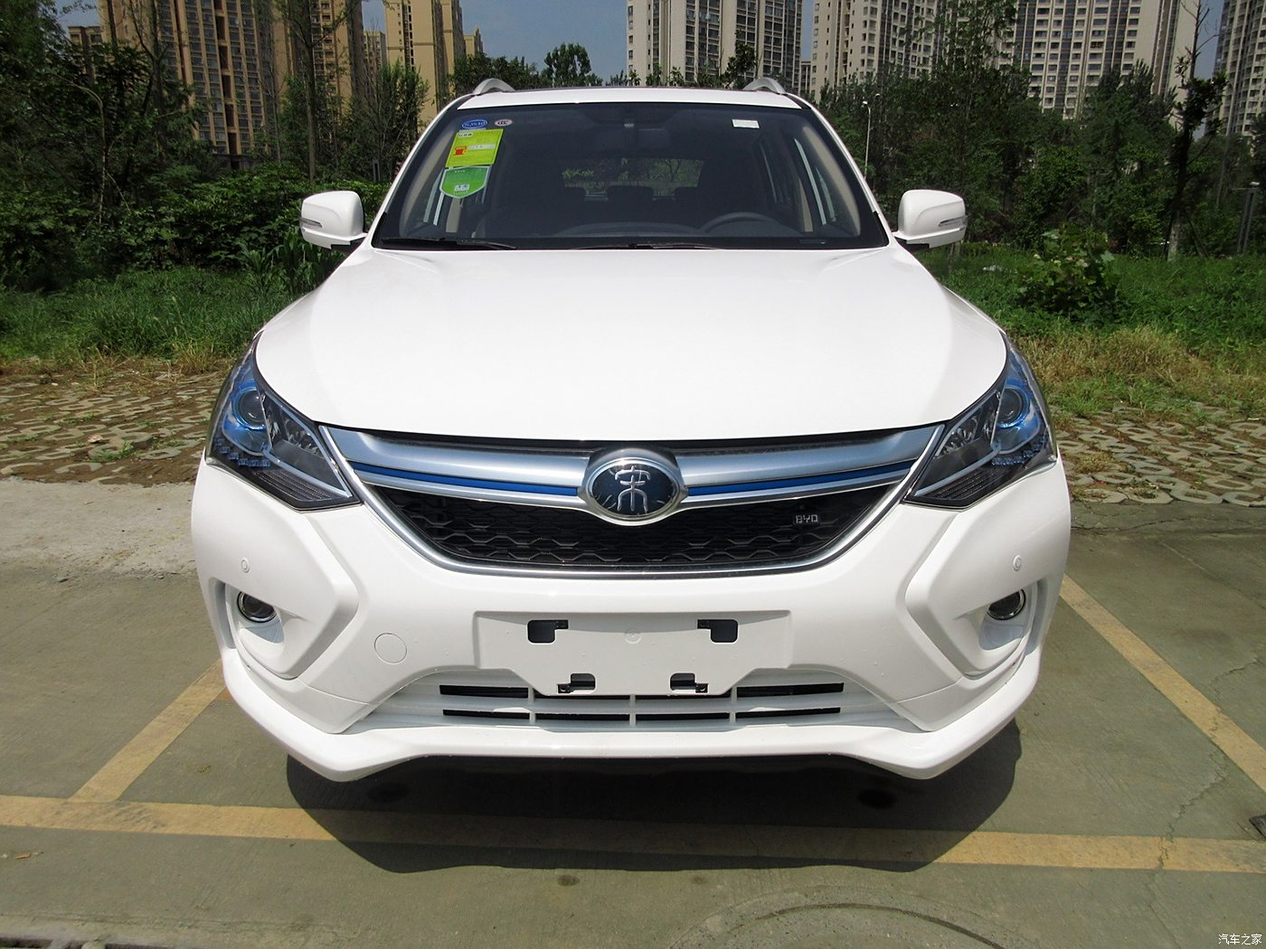BYD Song: (589, 460, 676, 520)
